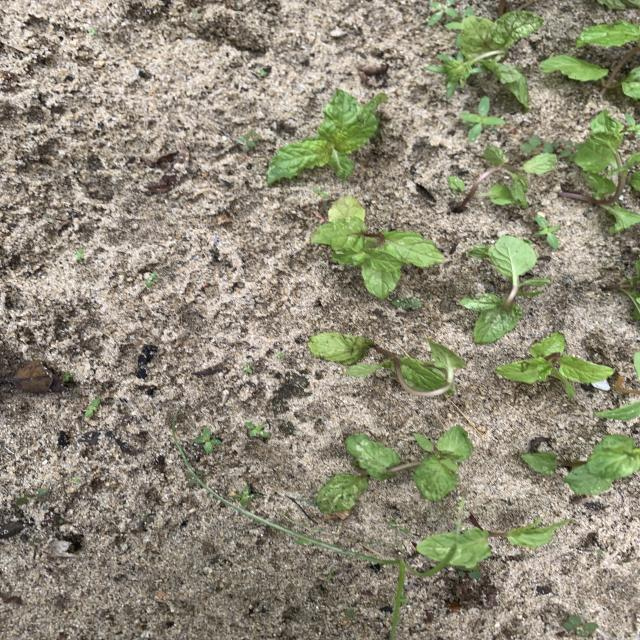crop: (315, 427, 471, 512), (312, 197, 443, 298), (428, 3, 542, 107), (267, 90, 386, 183), (460, 236, 550, 343), (309, 335, 466, 394), (564, 111, 639, 231), (416, 517, 569, 567), (543, 21, 639, 99), (496, 334, 614, 397), (521, 435, 640, 495), (448, 147, 555, 208), (605, 258, 639, 319), (594, 1, 639, 9)
weed: (170, 411, 444, 640), (460, 98, 504, 140), (535, 215, 559, 247), (429, 0, 458, 24), (563, 616, 597, 636), (194, 428, 221, 452), (521, 137, 558, 152), (231, 485, 259, 504), (16, 488, 47, 503), (239, 131, 262, 148), (245, 422, 270, 437), (392, 298, 421, 309), (554, 141, 575, 156), (625, 114, 639, 136), (86, 398, 99, 416), (146, 273, 158, 286), (315, 190, 327, 197)
